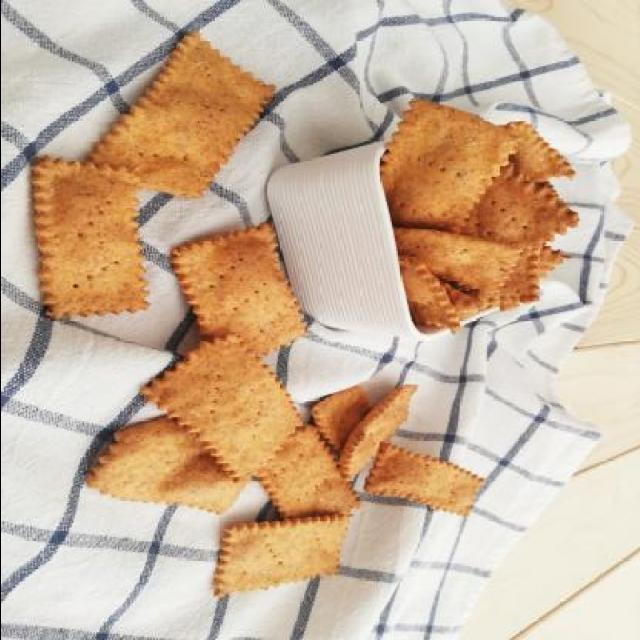Cracker packaged: (91, 40, 269, 200), (406, 122, 550, 310), (133, 340, 299, 478), (172, 226, 294, 388), (40, 152, 148, 326), (80, 416, 252, 513), (196, 507, 356, 598), (378, 450, 488, 513)
